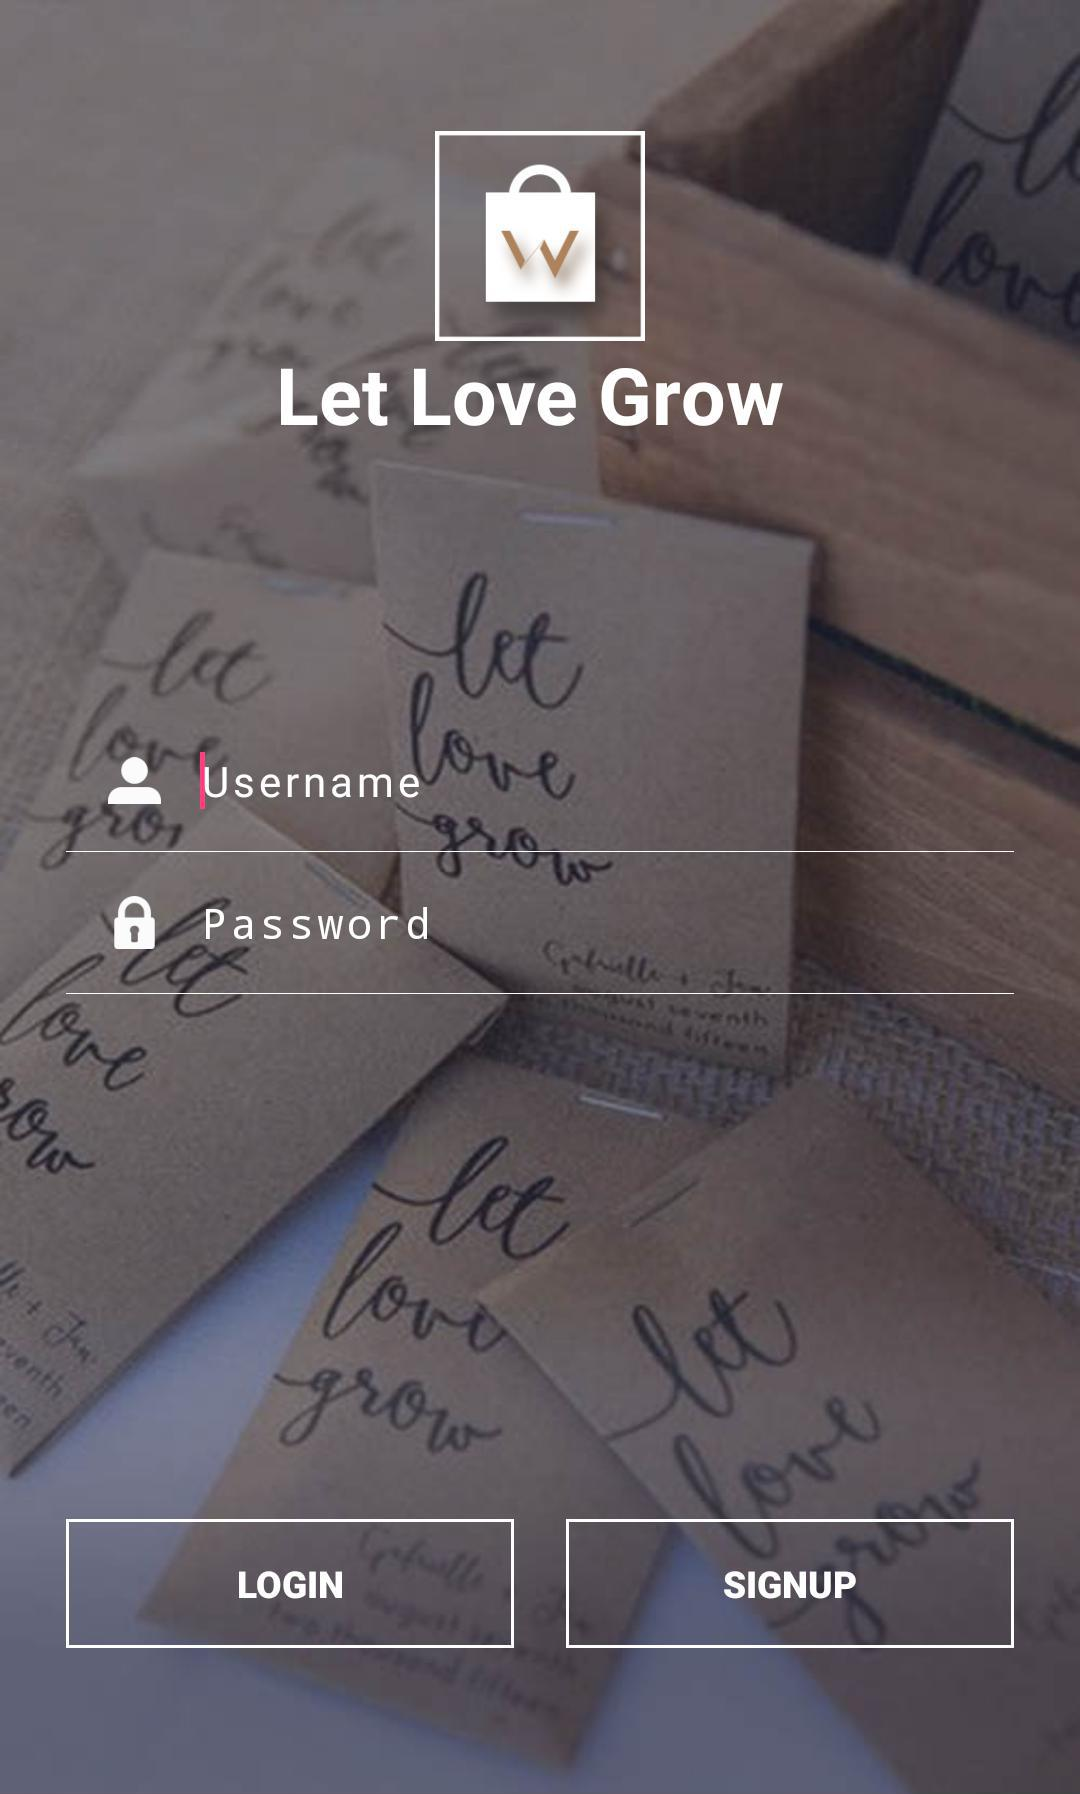BackgroundImage: (1, 1, 1080, 1794)
EditText: (67, 752, 1015, 853), (67, 894, 1015, 994)
Icon: (108, 757, 163, 805), (114, 896, 158, 950)
Image: (436, 131, 646, 343)
Text: (281, 368, 784, 428), (205, 907, 428, 941), (204, 766, 419, 800)
TextButton: (566, 1518, 1015, 1649), (67, 1518, 515, 1649)
